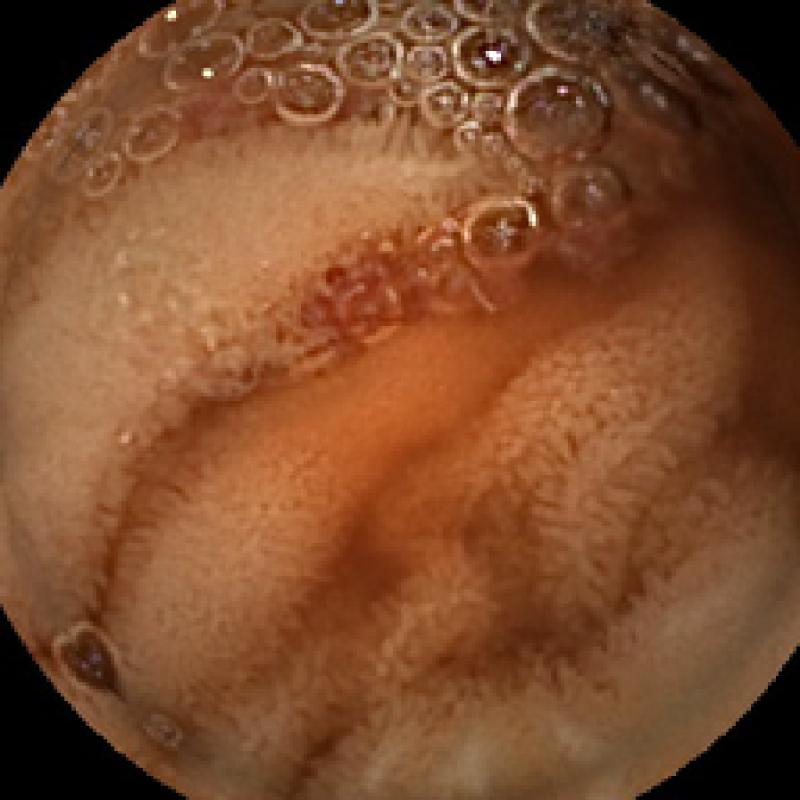bleeding: (307, 236, 489, 353)
